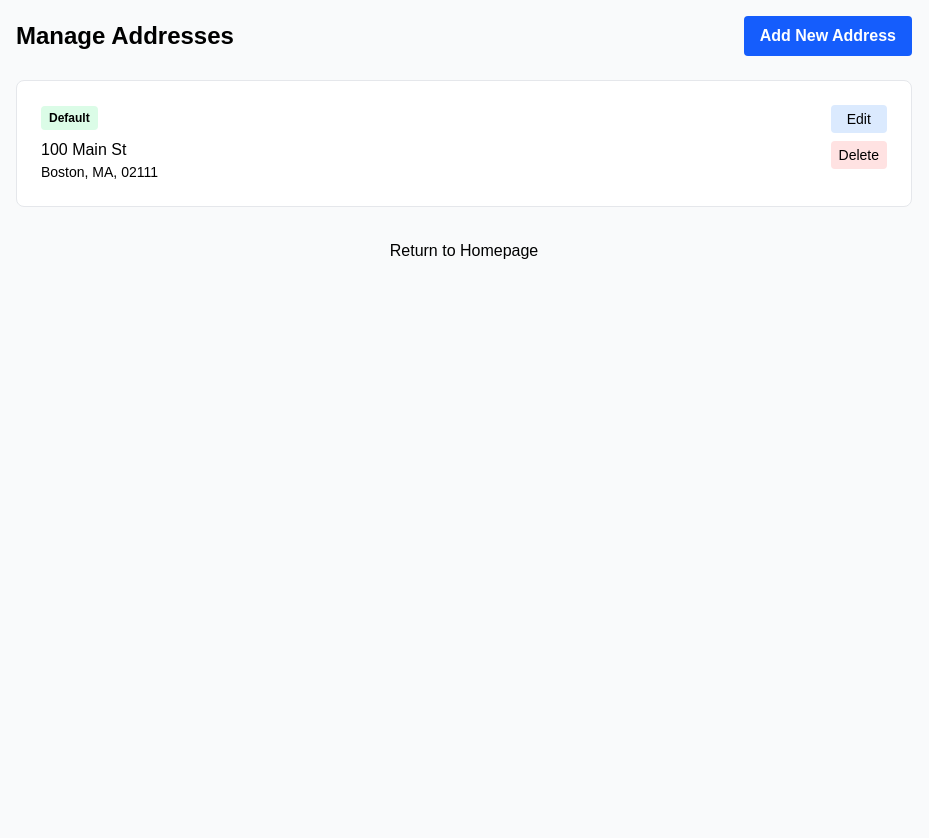
Test case: AddressManagement › adds a new address successfully
Expected: the text "100 Main St" is shown, [41,141,126,158]
Click the button "Add New Address": (828, 36) [744,16,912,56]
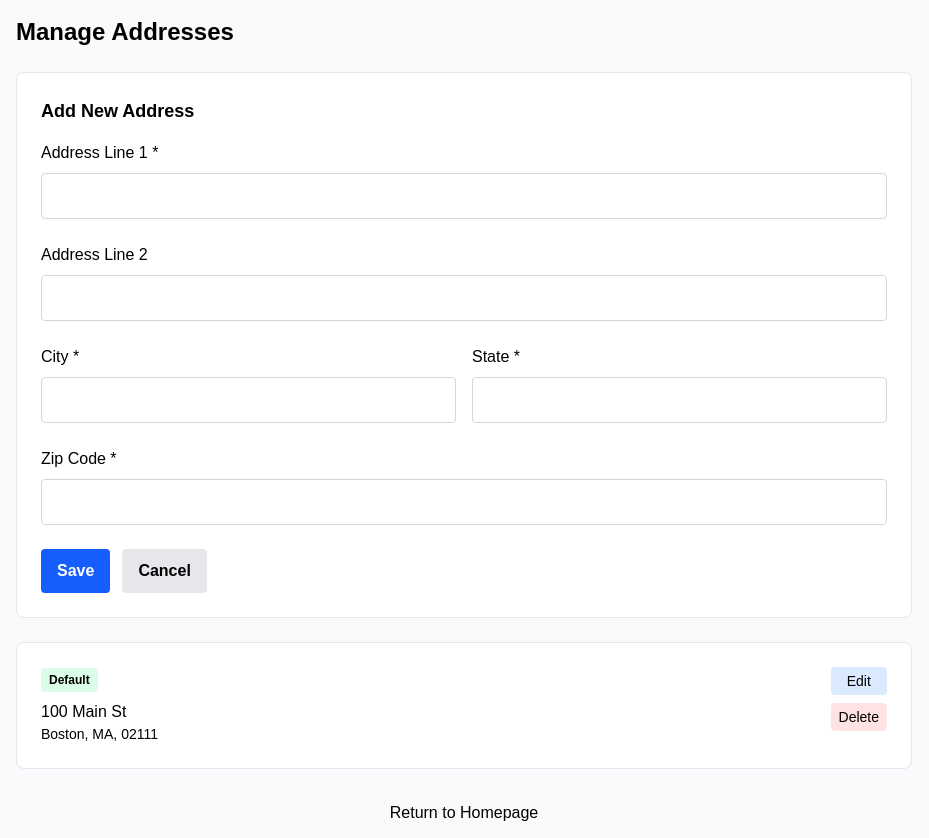
In the field below "Address Line 1 *": (464, 196) [41,173,887,219], type "55 Test Ave"
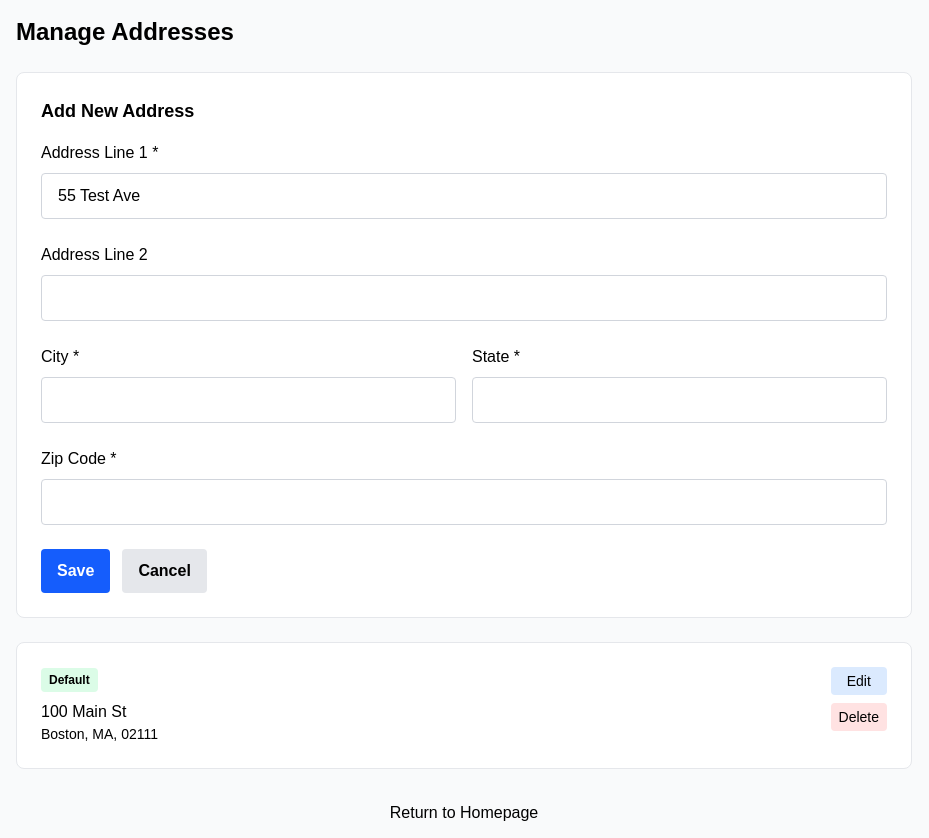
In the field below "City *": (248, 400) [41,377,456,423], type "Cambridge"
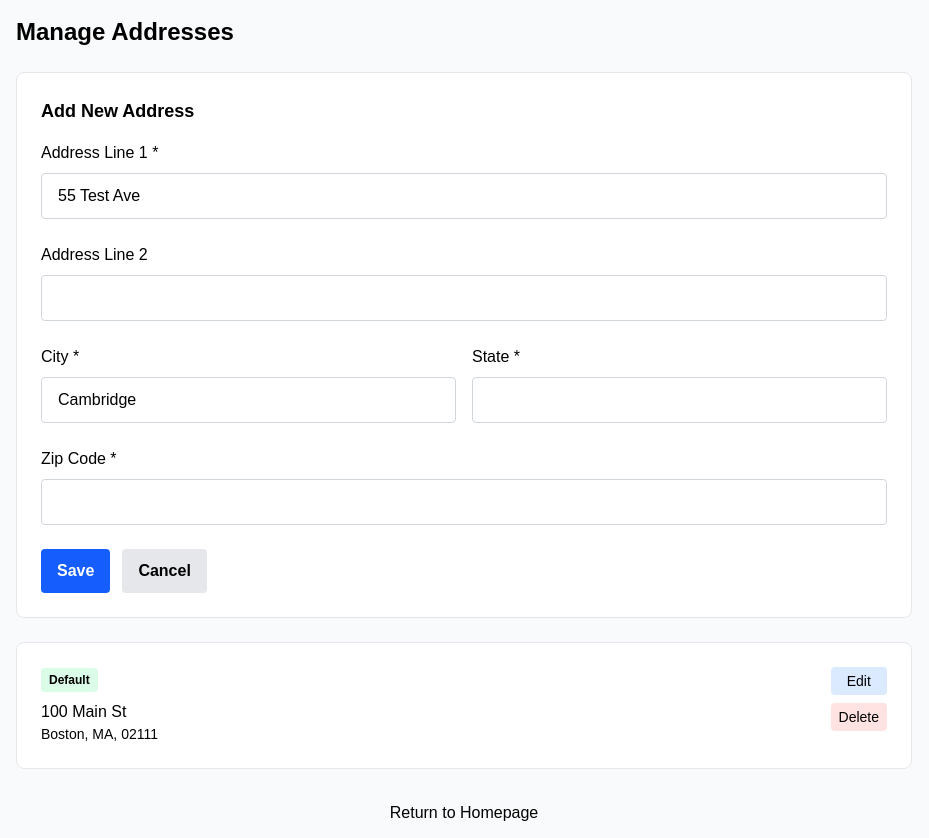
In the field below "State *": (680, 400) [472,377,887,423], type "MA"
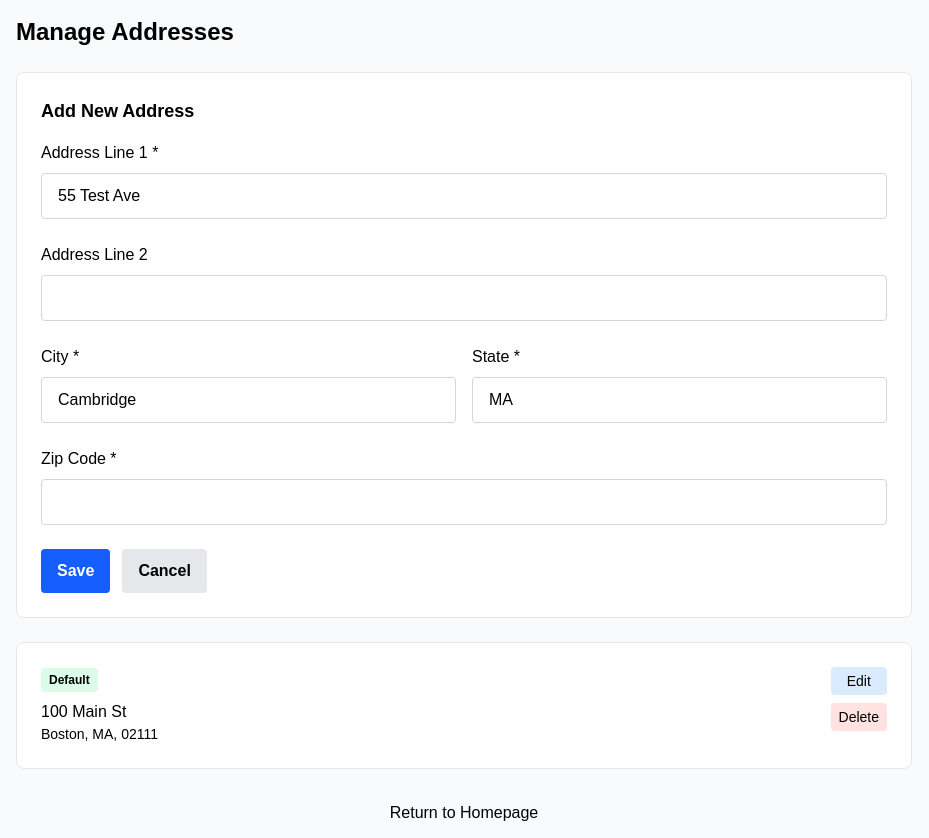
In the field below "Zip Code *": (464, 502) [41,479,887,525], type "02139"
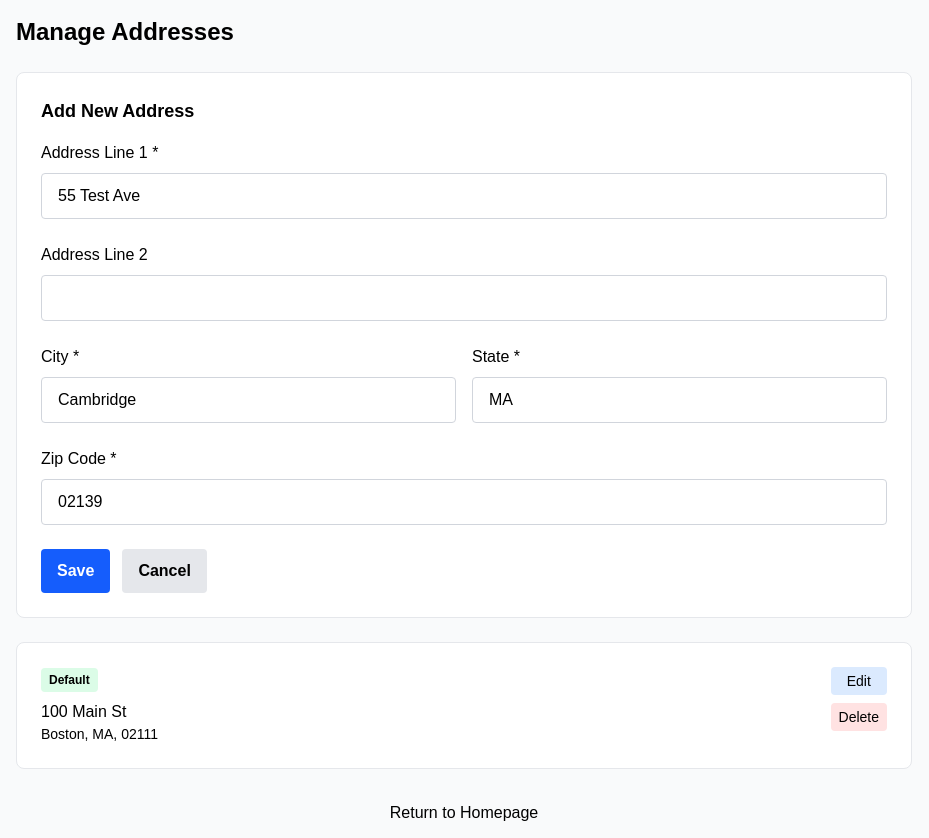
Click the button "Save": (76, 571) [41,549,110,593]
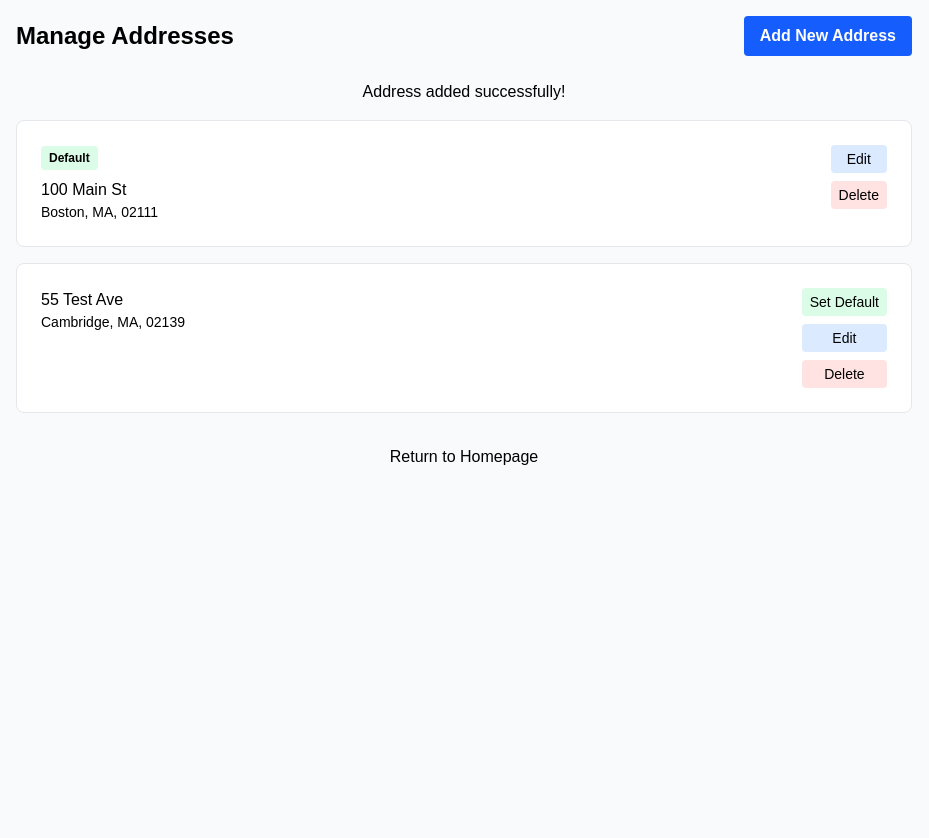
Expected: the text "Address added successfully!" is shown, [363,83,565,100]
Expected: the text "55 Test Ave" is shown, [41,291,123,308]
